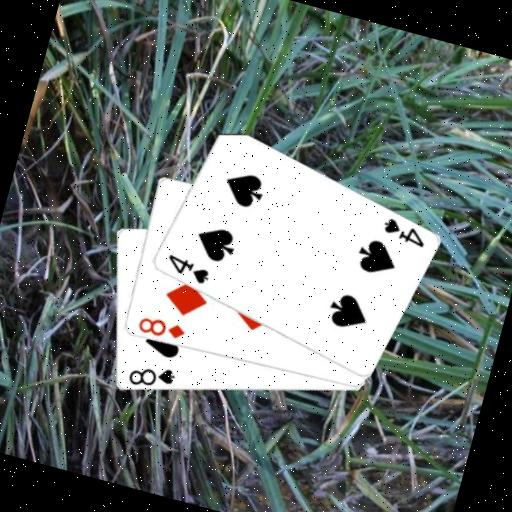4S: (376, 213, 430, 250), (160, 250, 213, 287)
8D: (133, 311, 188, 345)
8S: (123, 356, 179, 397)
